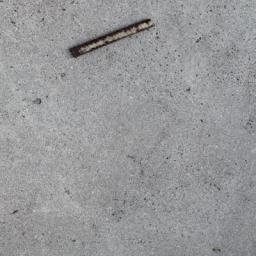FOD: (70, 19, 160, 61)
